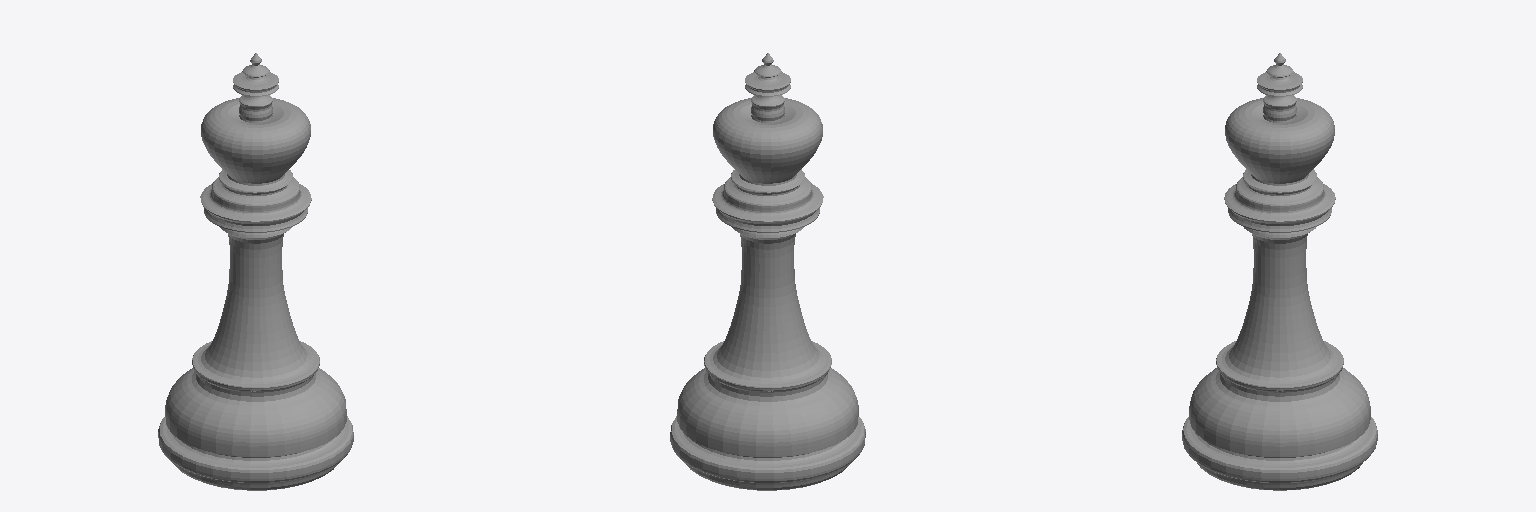
The model's file is King.obj.
3 renders of one model, left to right at view 1: azimuth 30°, elevation 25°; view 2: azimuth 150°, elevation 25°; view 3: azimuth 270°, elevation 25°, orthographic.
Parts seen in each view (by area): view 1: King_Plane.006; view 2: King_Plane.006; view 3: King_Plane.006.
Boxes of the visible parts, box(x1,y1,x2,y2) form: King_Plane.006: box(158, 53, 353, 490); King_Plane.006: box(670, 53, 865, 490); King_Plane.006: box(1182, 53, 1377, 490).
Size of the model in its own units: 4.1 by 9.39 by 4.1.